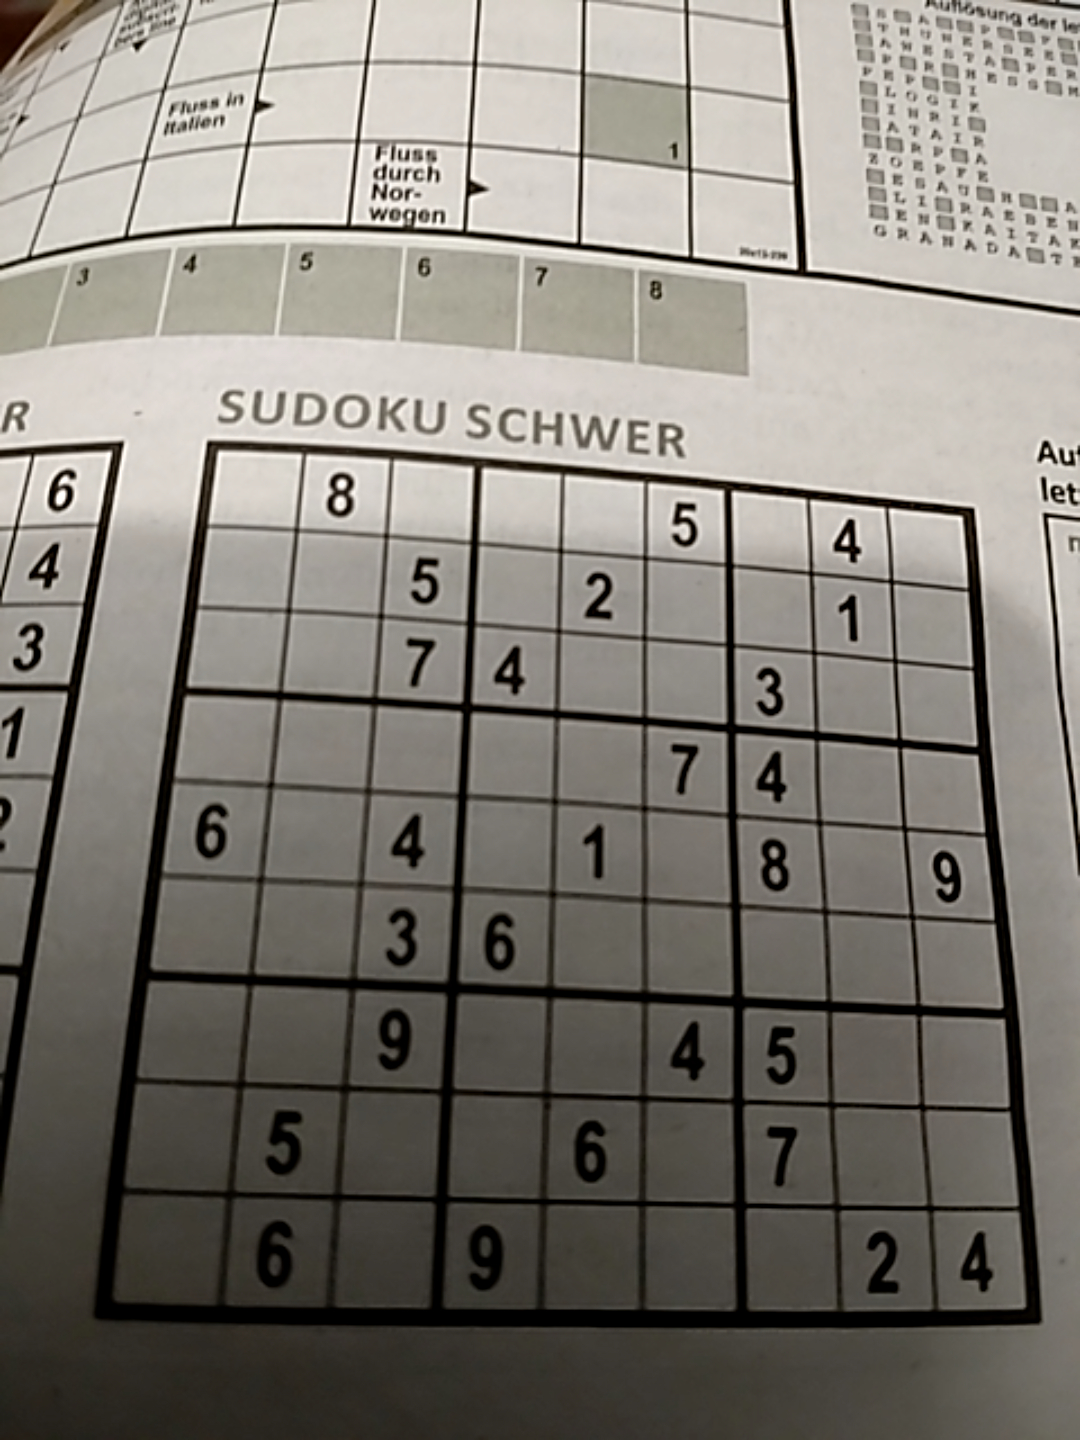sudoku: (88, 437, 1044, 1332)
